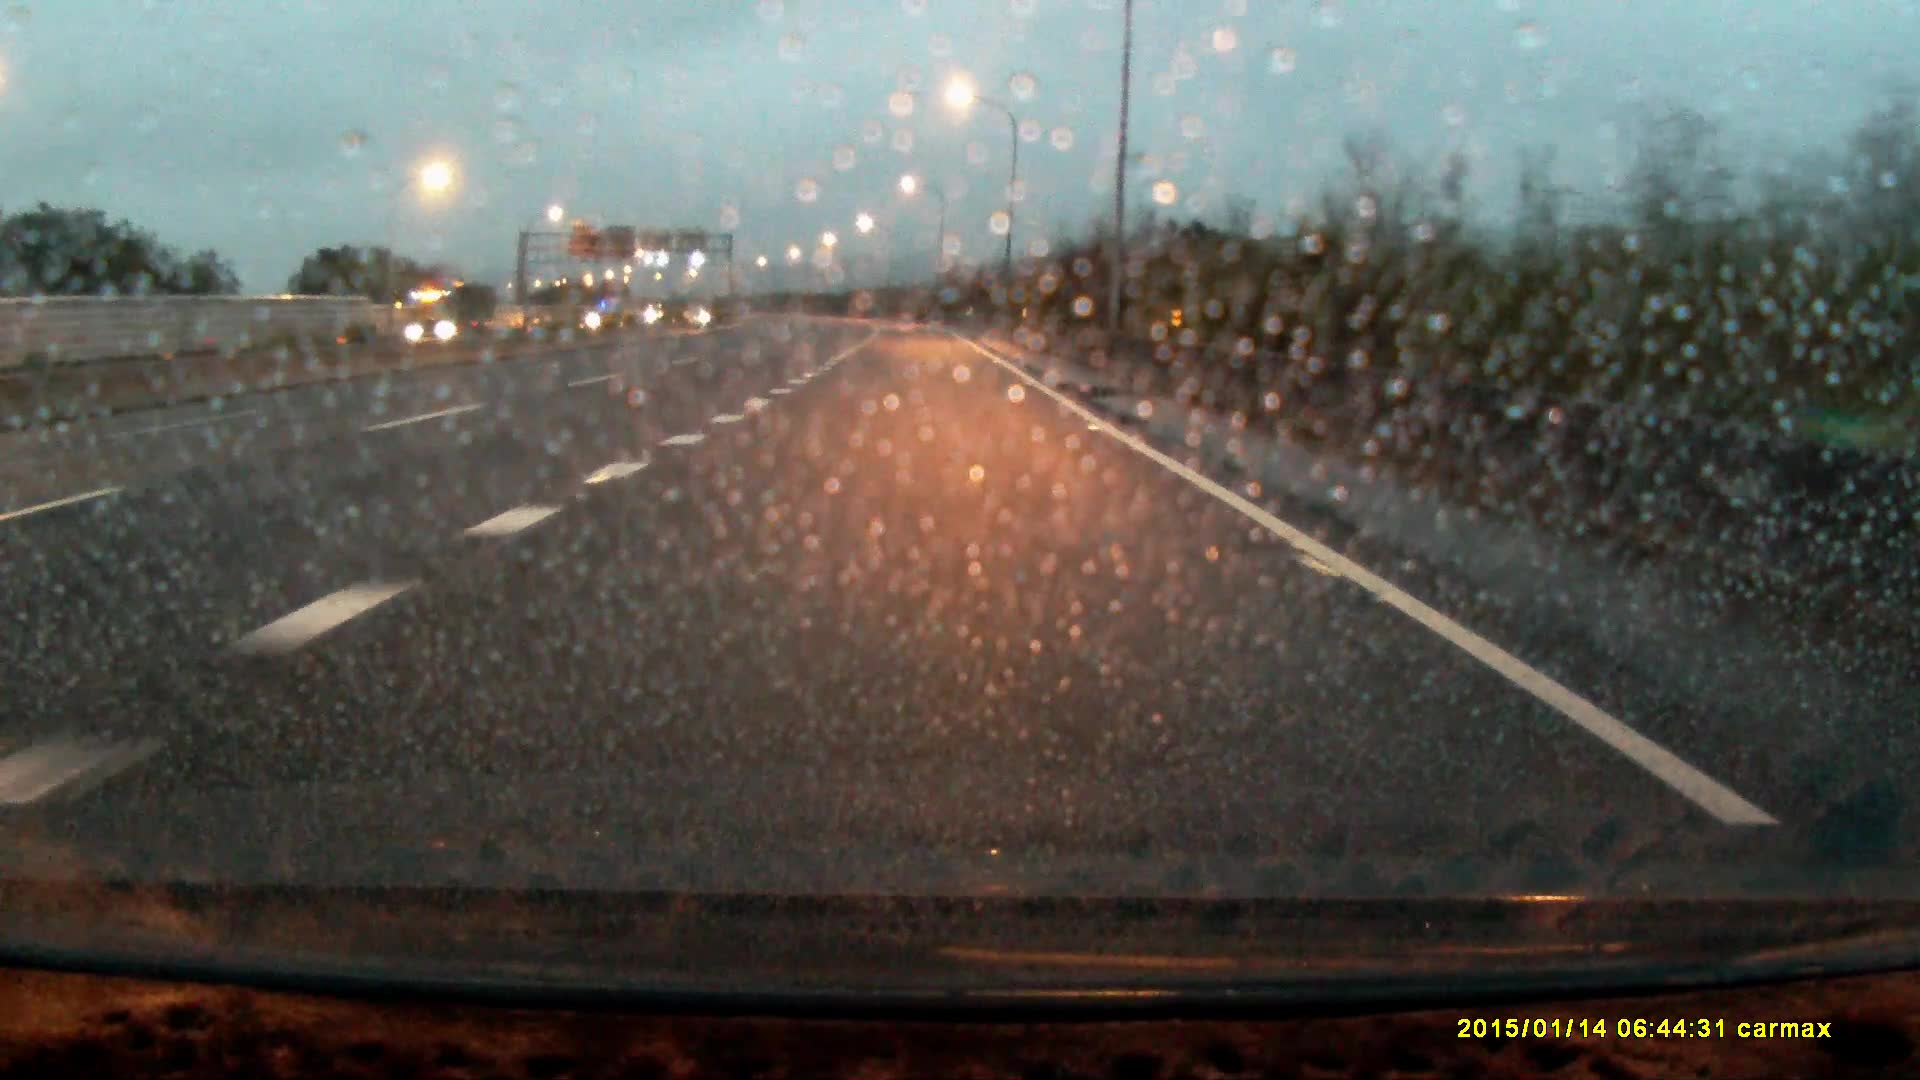vehicle: (407, 289, 477, 343)
